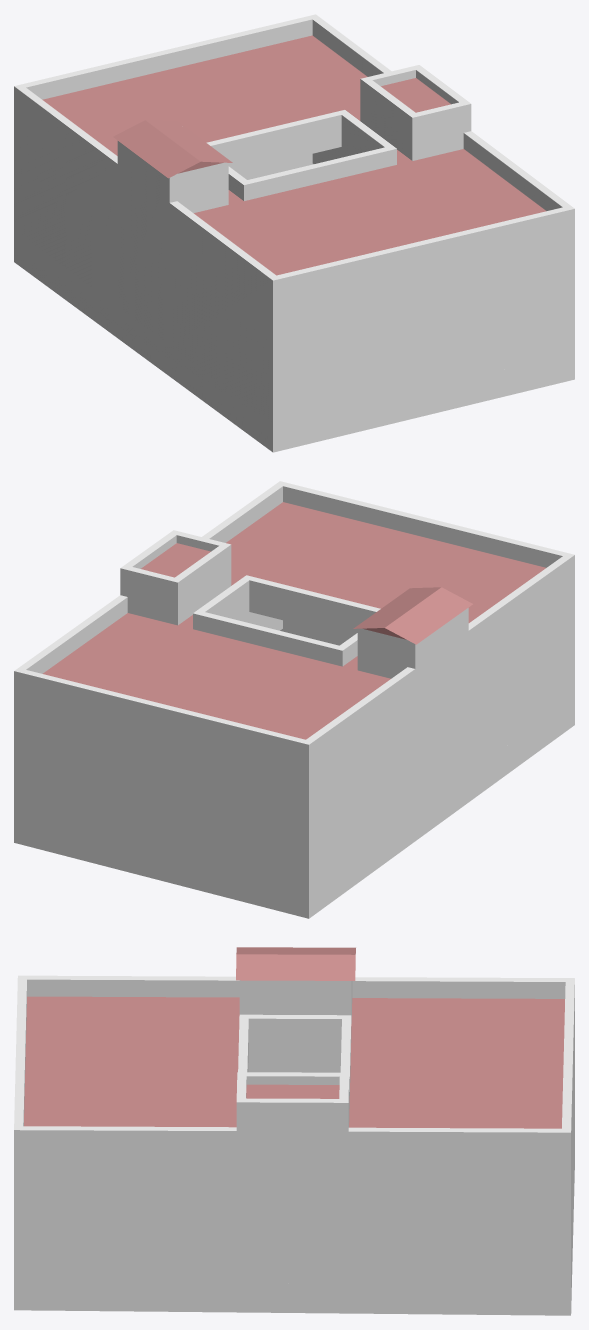
Rendered from LOD_Block_4_55.glb.
The picture shows the model from 3 angles, top to bottom: view 1: azimuth 30°, elevation 25°; view 2: azimuth 150°, elevation 25°; view 3: azimuth 270°, elevation 25°; orthographic projection. The views are drawn at different scales.
Visible parts, largest first — view 1: mesh_CityEngineMaterial_819; view 2: mesh_CityEngineMaterial_819; view 3: mesh_CityEngineMaterial_819.
Part boxes in pixels (box(x1,y1,x2,y2)): mesh_CityEngineMaterial_819: box(14, 14, 574, 452); mesh_CityEngineMaterial_819: box(14, 481, 574, 918); mesh_CityEngineMaterial_819: box(14, 947, 574, 1315).
Bounding box in the file's own units: 19.99 × 13.19 × 30.08.
